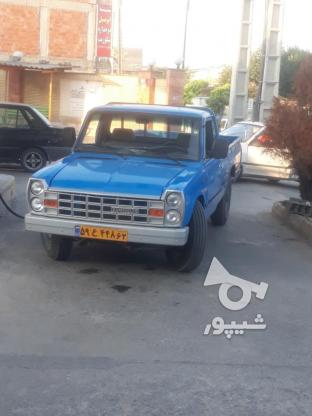car: (71, 223, 129, 241)
